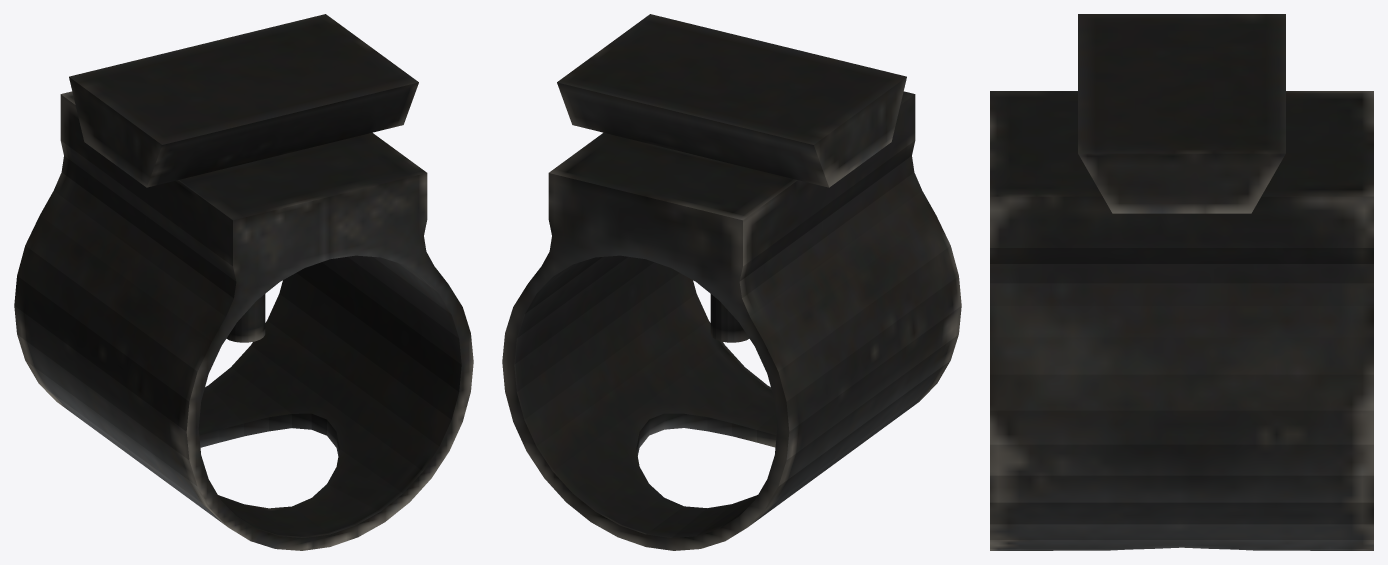
3 renders of one model, left to right at view 1: azimuth 30°, elevation 25°; view 2: azimuth 150°, elevation 25°; view 3: azimuth 270°, elevation 25°, orthographic. The views are drawn at different scales.
Parts seen in each view (by area): view 1: TW_64119d672c6d6f921a0929fb_PZ_Import; view 2: TW_64119d672c6d6f921a0929fb_PZ_Import; view 3: TW_64119d672c6d6f921a0929fb_PZ_Import.
Part boxes in pixels (x1=…): TW_64119d672c6d6f921a0929fb_PZ_Import: x1=14, y1=14, x2=473, y2=550; TW_64119d672c6d6f921a0929fb_PZ_Import: x1=502, y1=14, x2=961, y2=550; TW_64119d672c6d6f921a0929fb_PZ_Import: x1=990, y1=14, x2=1373, y2=550.
Bounding box in the file's own units: 0.00837 × 0.00871 × 0.0113.
Materials: 1 (1 with a texture image).
